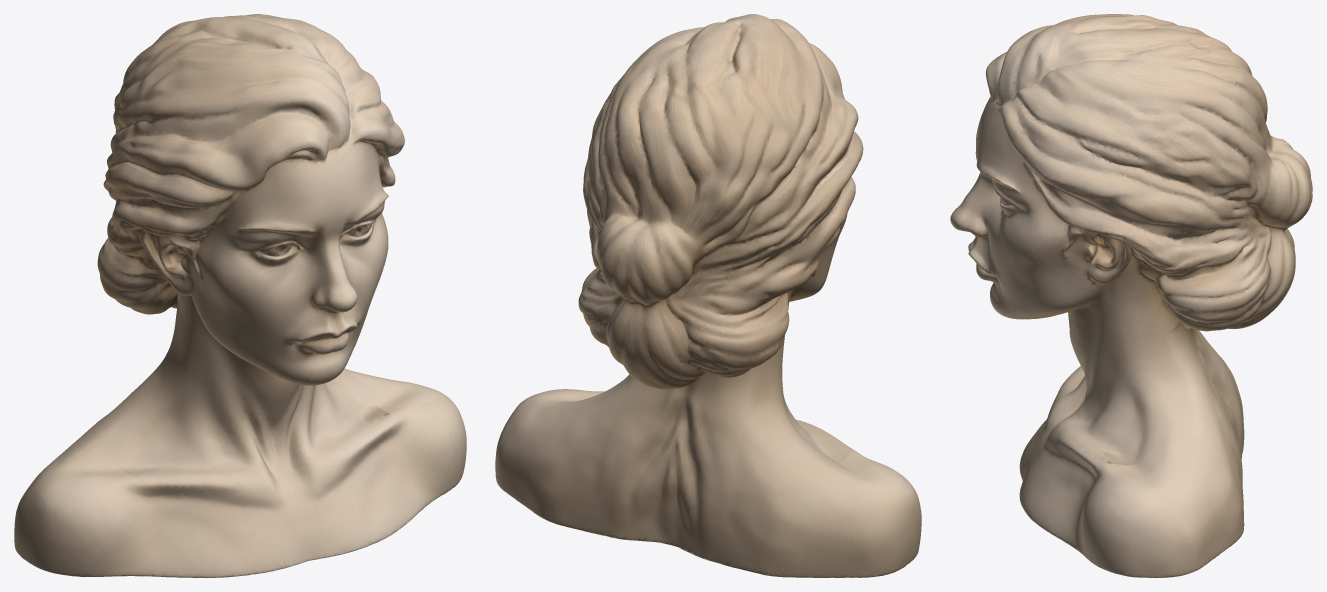
The model's file is varco-source.glb.
3 renders of one model, left to right at view 1: azimuth 30°, elevation 25°; view 2: azimuth 150°, elevation 25°; view 3: azimuth 270°, elevation 25°, orthographic. The views are drawn at different scales.
Visible parts, largest first — view 1: texture_mapping; view 2: texture_mapping; view 3: texture_mapping.
Part boxes in pixels (<box>): texture_mapping: <box>14,14,466,577</box>; texture_mapping: <box>495,14,921,577</box>; texture_mapping: <box>950,14,1312,577</box>.
Size of the model in its own units: 0.9115 by 1 by 0.7214.
1 material, 1 textured.
